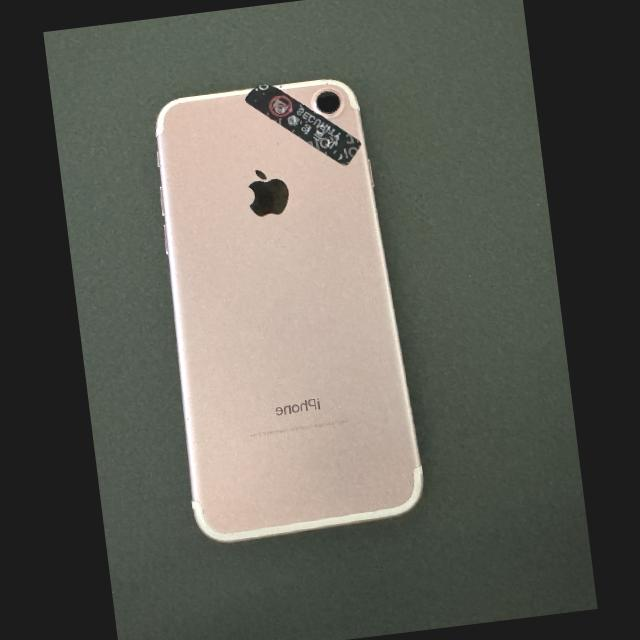lens: (316, 92, 339, 114)
phone: (156, 79, 423, 541)
sticker: (245, 84, 361, 164)
